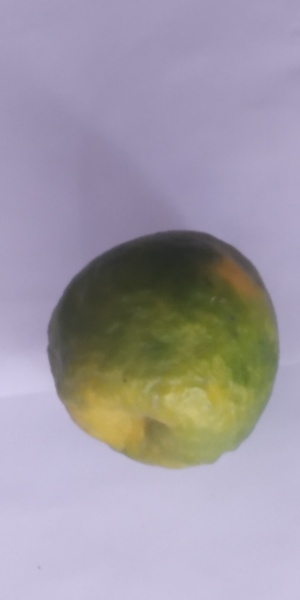BAD: (42, 230, 283, 467)
